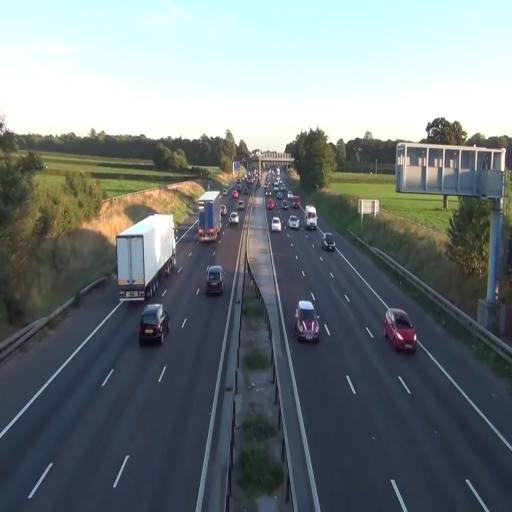vehicle: (116, 213, 176, 302), (384, 307, 418, 355), (138, 303, 170, 347), (197, 190, 222, 242), (294, 299, 320, 344), (206, 264, 224, 296), (304, 204, 318, 228), (322, 233, 336, 251), (271, 215, 283, 232), (289, 214, 300, 230), (229, 210, 238, 224)
